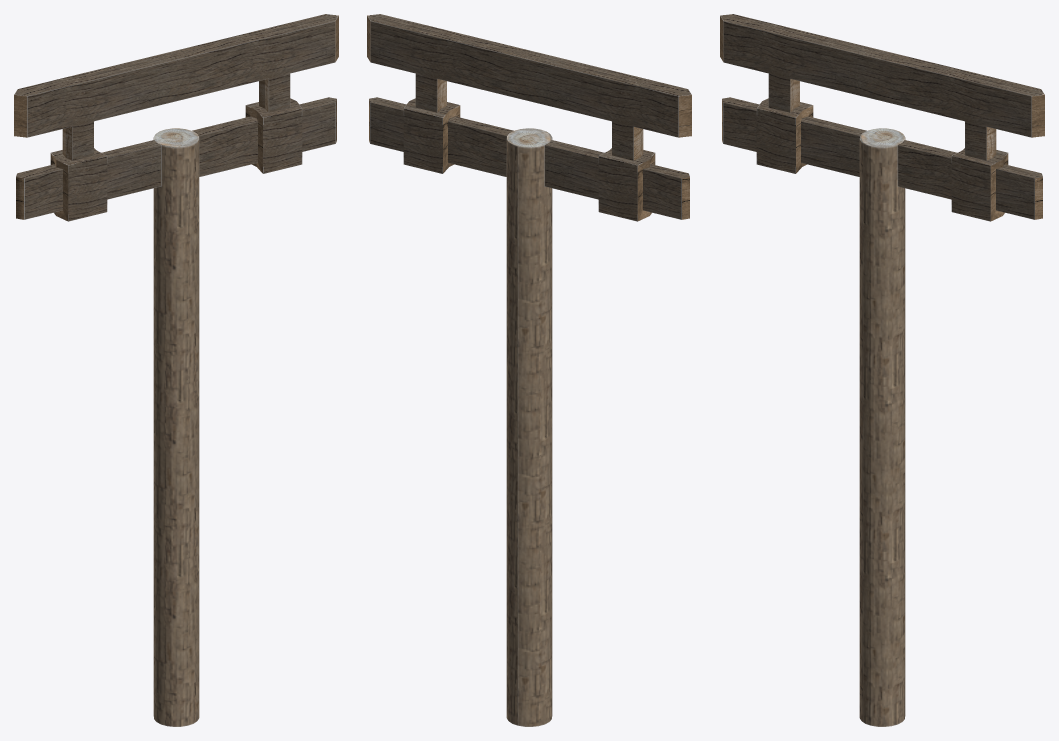
Rendered from PowerLinePole.fbx.
3 views of the same model, side by side, from view 1: azimuth 30°, elevation 25°; view 2: azimuth 150°, elevation 25°; view 3: azimuth 330°, elevation 25° (orthographic).
Parts seen in each view (by area): view 1: polySurface1; view 2: polySurface1; view 3: polySurface1.
Part boxes in pixels (x1,y1,x2,y2): polySurface1: (14,14,338,726); polySurface1: (367,14,691,726); polySurface1: (720,14,1044,726).
Size of the model in its own units: 8.21 by 16 by 1.
1 material, 1 textured.
